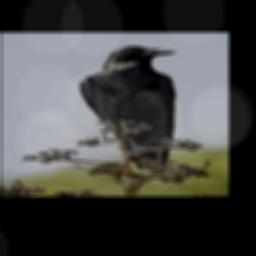Crow: (80, 46, 176, 175)
